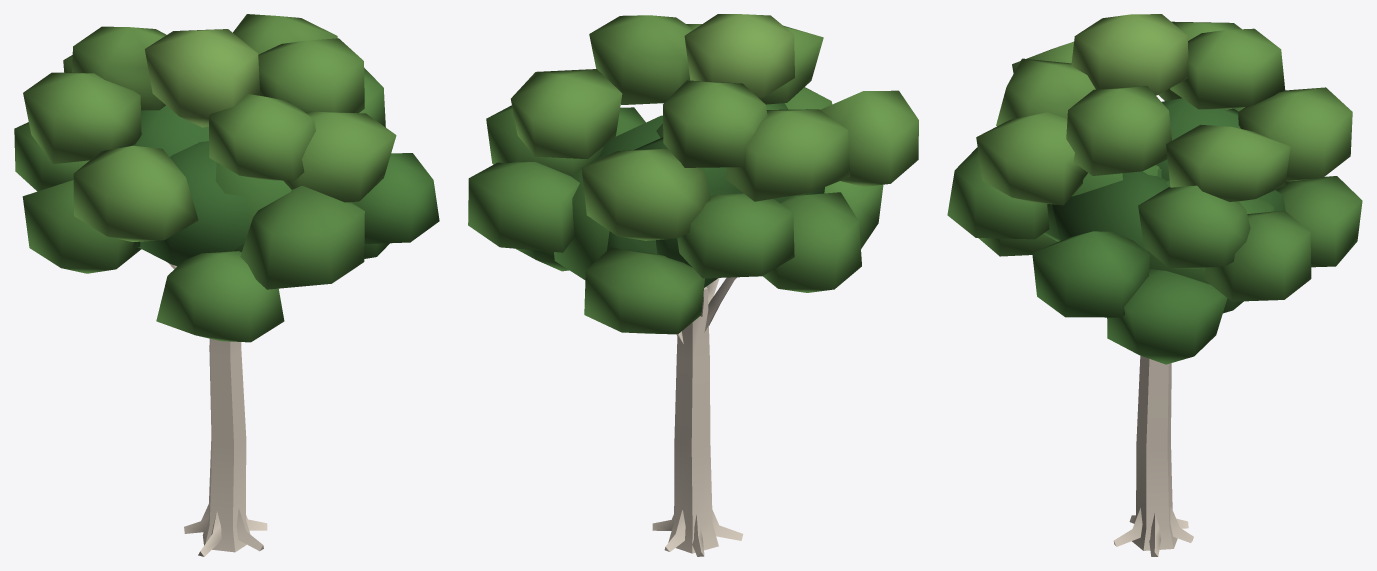
File: maple.far.glb
The picture shows the model from 3 angles, left to right: view 1: azimuth 30°, elevation 25°; view 2: azimuth 150°, elevation 25°; view 3: azimuth 270°, elevation 25°; orthographic projection. The views are drawn at different scales.
Visible parts, largest first — view 1: maple; view 2: maple; view 3: maple.
Part boxes in pixels (x1,y1,x2,y2): maple: (14, 14, 439, 556); maple: (468, 14, 918, 556); maple: (947, 14, 1362, 556).
Size of the model in its own units: 5.04 by 7.22 by 5.33.
